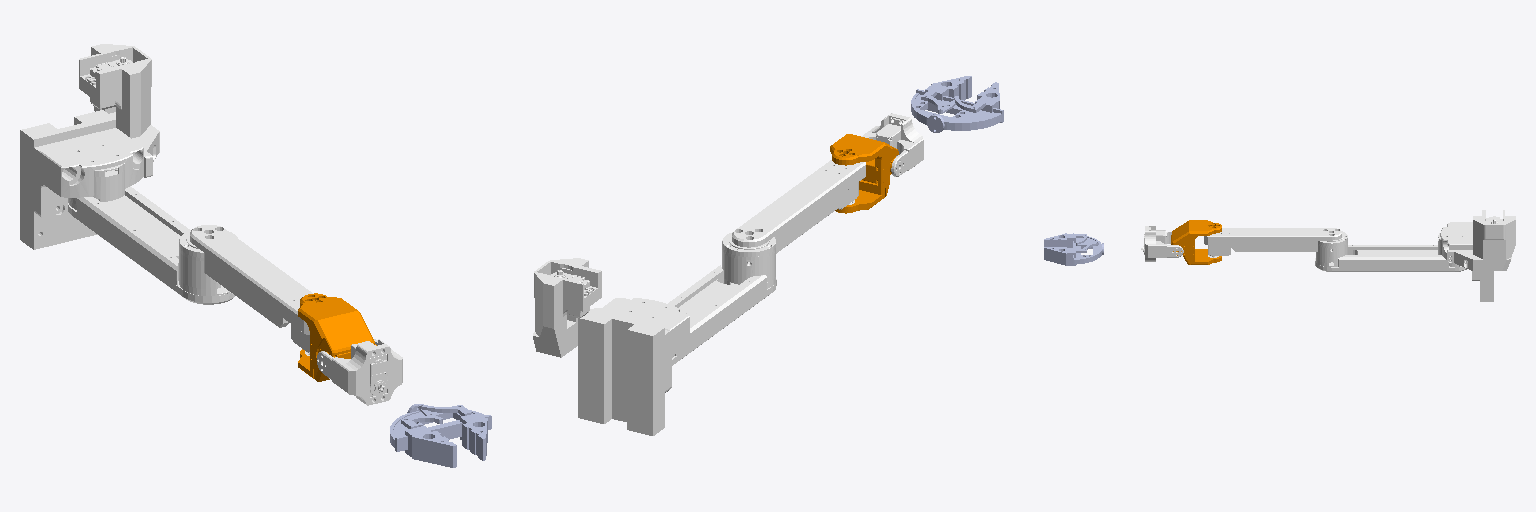
The robot description file, URDF, robot "TinyStretch":
<?xml version="1.0" encoding="utf-8"?>
<!-- This URDF was automatically created by SolidWorks to URDF Exporter! Originally created by [author] ([email redacted]) 
     Commit Version: 1.6.0-1-g15f4949  Build Version: 1.6.7594.29634
     For more information, please see http://wiki.ros.org/sw_urdf_exporter -->
<robot
  name="TinyStretch">


  <link
    name="base_link">
    <inertial>
      <origin
        xyz="0 0 0"
        rpy="0 0 0" />
      <mass
        value="5" />
      <inertia
        ixx="0.0069972"
        ixy="-4.771E-07"
        ixz="1.3652E-06"
        iyy="0.0098927"
        iyz="1.1128E-05"
        izz="0.0037007" />
    </inertial>
  </link>
   
  <link
    name="arm_base_link">
    <inertial>
      <origin
        xyz="0.0230339333077933 0.0468527238148121 -0.016101610527142"
        rpy="0 0 0" />
      <mass
        value="0.563791232660152" />
      <inertia
        ixx="0.000550162074526023"
        ixy="-9.13800924073317E-06"
        ixz="5.82510742155865E-06"
        iyy="0.000705595152739619"
        iyz="-1.29638845646991E-05"
        izz="0.000476715767910123" />
    </inertial>
    <visual>
      <origin
        xyz="0 0 0"
        rpy="0 0 0" />
      <geometry>
        <mesh
          filename="package://TinyStretch/meshes/arm_base_link.STL" />
      </geometry>
      <material
        name="">
        <color
          rgba="1 1 1 1" />
      </material>
    </visual>
    <collision>
      <origin
        xyz="0 0 0"
        rpy="0 0 0" />
      <geometry>
        <mesh
          filename="package://TinyStretch/meshes/arm_base_link.STL" />
      </geometry>
    </collision>
  </link>
  <joint
    name="arm_base_joint"
    type="prismatic">
    <origin
      xyz="0 0 0.12"
      rpy="0 0 0" />
    <parent
      link="base_link" />
    <child
      link="arm_base_link" />
    <axis
      xyz="0 0 1" />
    <limit
      lower="0"
      upper="0.23"
      effort="5"
      velocity="0.3" />
  </joint>

  <link
    name="arm0_link">
    <inertial>
      <origin
        xyz="-0.00347118599498991 -3.15184501778476E-05 0.114054429270132"
        rpy="0 0 0" />
      <mass
        value="0.304945958365602" />
      <inertia
        ixx="0.00111803954047033"
        ixy="-4.31180088576853E-09"
        ixz="-3.17581305751002E-06"
        iyy="0.00104538133328087"
        iyz="5.36307385602601E-10"
        izz="0.000105222620502007" />
    </inertial>
    <visual>
      <origin
        xyz="0 0 0"
        rpy="0 0 0" />
      <geometry>
        <mesh
          filename="package://TinyStretch/meshes/arm0_link.STL" />
      </geometry>
      <material
        name="">
        <color
          rgba="1 1 1 1" />
      </material>
    </visual>
    <collision>
      <origin
        xyz="0 0 0"
        rpy="0 0 0" />
      <geometry>
        <mesh
          filename="package://TinyStretch/meshes/arm0_link.STL" />
      </geometry>
    </collision>
  </link>
  <joint
    name="arm0_joint"
    type="revolute">
    <origin
      xyz="0 0 -0.0459"
      rpy="1.5708 1.5708 0" />
    <parent
      link="arm_base_link" />
    <child
      link="arm0_link" />
    <axis
      xyz="-1 0 0" />
    <limit
      lower="-1.57"
      upper="1.57"
      effort="10"
      velocity="3" />
  </joint>
  <link
    name="arm1_link">
    <inertial>
      <origin
        xyz="7.78997245312607E-06 -0.00543045767371764 0.108611482367265"
        rpy="0 0 0" />
      <mass
        value="0.179423889925194" />
      <inertia
        ixx="0.00049340842467727"
        ixy="-4.96395858021224E-09"
        ixz="-8.2901945949375E-08"
        iyy="0.000503793524710836"
        iyz="1.27227915596747E-07"
        izz="3.35188448836816E-05" />
    </inertial>
    <visual>
      <origin
        xyz="0 0 0"
        rpy="0 0 0" />
      <geometry>
        <mesh
          filename="package://TinyStretch/meshes/arm1_link.STL" />
      </geometry>
      <material
        name="">
        <color
          rgba="1 1 1 1" />
      </material>
    </visual>
    <collision>
      <origin
        xyz="0 0 0"
        rpy="0 0 0" />
      <geometry>
        <mesh
          filename="package://TinyStretch/meshes/arm1_link.STL" />
      </geometry>
    </collision>
  </link>
  <joint
    name="arm1_joint"
    type="revolute">
    <origin
      xyz="-0.046 0 0.21"
      rpy="0 0 1.5708" />
    <parent
      link="arm0_link" />
    <child
      link="arm1_link" />
    <axis
      xyz="0 1 0" />
    <limit
      lower="0"
      upper="2.96"
      effort="10"
      velocity="3" />
  </joint>
  <link
    name="arm2_link">
    <inertial>
      <origin
        xyz="-0.020120222192106 0.0308892330453639 -0.000142965764577313"
        rpy="0 0 0" />
      <mass
        value="0.0980521368758784" />
      <inertia
        ixx="4.22455880538882E-05"
        ixy="3.45087866268331E-06"
        ixz="2.98719439586652E-07"
        iyy="2.25571672882411E-05"
        iyz="-2.49758128419671E-07"
        izz="3.19823075478051E-05" />
    </inertial>
    <visual>
      <origin
        xyz="0 0 0"
        rpy="0 0 0" />
      <geometry>
        <mesh
          filename="package://TinyStretch/meshes/arm2_link.STL" />
      </geometry>
      <material
        name="">
        <color
          rgba="1 0.6 0 1" />
      </material>
    </visual>
    <collision>
      <origin
        xyz="0 0 0"
        rpy="0 0 0" />
      <geometry>
        <mesh
          filename="package://TinyStretch/meshes/arm2_link.STL" />
      </geometry>
    </collision>
  </link>
  <joint
    name="arm2_joint"
    type="revolute">
    <origin
      xyz="2.9282E-05 0.0088 0.20095"
      rpy="1.5708 0 1.5708" />
    <parent
      link="arm1_link" />
    <child
      link="arm2_link" />
    <axis
      xyz="-1 0 0" />
    <limit
      lower="-1.9"
      upper="1.9"
      effort="10"
      velocity="3" />
  </joint>
  <link
    name="arm3_link">
    <inertial>
      <origin
        xyz="0.0378614341217498 -0.000880743243431903 -0.0260096517576764"
        rpy="0 0 0" />
      <mass
        value="0.0701150632473082" />
      <inertia
        ixx="2.85886031669487E-05"
        ixy="1.13914110634963E-07"
        ixz="1.37861343880548E-08"
        iyy="2.83433374672963E-05"
        iyz="-4.08961931990006E-09"
        izz="1.84022487213624E-05" />
    </inertial>
    <visual>
      <origin
        xyz="0 0 0"
        rpy="0 0 0" />
      <geometry>
        <mesh
          filename="package://TinyStretch/meshes/arm3_link.STL" />
      </geometry>
      <material
        name="">
        <color
          rgba="1 1 1 1" />
      </material>
    </visual>
    <collision>
      <origin
        xyz="0 0 0"
        rpy="0 0 0" />
      <geometry>
        <mesh
          filename="package://TinyStretch/meshes/arm3_link.STL" />
      </geometry>
    </collision>
  </link>
  <joint
    name="arm3_joint"
    type="revolute">
    <origin
      xyz="-0.02455 0.062411 0.027072"
      rpy="0 0 1.5708" />
    <parent
      link="arm2_link" />
    <child
      link="arm3_link" />
    <axis
      xyz="0 0 -1" />
    <limit
      lower="-1.57"
      upper="1.57"
      effort="10"
      velocity="3" />
  </joint>
  <link
    name="arm4_link">
    <inertial>
      <origin
        xyz="0.0575769201806073 -0.000955133770654537 4.26827065894142E-05"
        rpy="0 0 0" />
      <mass
        value="0.0627105561340356" />
      <inertia
        ixx="4.69838111630794E-05"
        ixy="-1.40377278488317E-06"
        ixz="6.39473133862229E-07"
        iyy="3.87616730398487E-05"
        iyz="-3.2262145486781E-08"
        izz="8.16323737141362E-05" />
    </inertial>
    <visual>
      <origin
        xyz="0 0 0"
        rpy="0 0 0" />
      <geometry>
        <mesh
          filename="package://TinyStretch/meshes/arm4_link.STL" />
      </geometry>
      <material
        name="">
        <color
          rgba="0.792156862745098 0.819607843137255 0.933333333333333 1" />
      </material>
    </visual>
    <collision>
      <origin
        xyz="0 0 0"
        rpy="0 0 0" />
      <geometry>
        <mesh
          filename="package://TinyStretch/meshes/arm4_link.STL" />
      </geometry>
    </collision>
  </link>
  <joint
    name="arm4_joint"
    type="revolute">
    <origin
      xyz="0.12 0.0086359 -0.025821"
      rpy="1.5708 0 0" />
    <parent
      link="arm3_link" />
    <child
      link="arm4_link" />
    <axis
      xyz="-1 0 0" />
    <limit
      lower="-1.57"
      upper="1.57"
      effort="10"
      velocity="3" />
  </joint>
  
 
</robot>

--- What the picture shows (computed from the rendered views, not written in the file) ---
The picture shows the robot from 3 angles, left to right: view 1: azimuth 30°, elevation 25°; view 2: azimuth 150°, elevation 25°; view 3: azimuth 270°, elevation 25°; orthographic projection.
Model TinyStretch with 7 links and 6 joints (5 revolute, 1 prismatic), rooted at base_link, posed all joints at 0.
Links seen in each view (by area): view 1: arm_base_link, arm0_link, arm1_link, arm4_link, arm2_link, arm3_link; view 2: arm_base_link, arm0_link, arm1_link, arm4_link, arm2_link, arm3_link; view 3: arm_base_link, arm0_link, arm1_link, arm4_link, arm2_link, arm3_link.
Link boxes in pixels (<box>): arm_base_link: <box>20,44,159,249</box>; arm0_link: <box>68,186,237,304</box>; arm1_link: <box>190,225,312,355</box>; arm4_link: <box>390,404,491,467</box>; arm2_link: <box>298,293,376,381</box>; arm3_link: <box>317,339,402,405</box>; arm_base_link: <box>533,258,689,435</box>; arm0_link: <box>668,232,776,365</box>; arm1_link: <box>732,160,865,253</box>; arm4_link: <box>911,76,1003,132</box>; arm2_link: <box>830,134,898,213</box>; arm3_link: <box>861,113,923,176</box>; arm_base_link: <box>1438,210,1515,301</box>; arm0_link: <box>1315,231,1466,271</box>; arm1_link: <box>1204,228,1341,257</box>; arm4_link: <box>1044,233,1103,265</box>; arm2_link: <box>1171,220,1221,264</box>; arm3_link: <box>1141,226,1183,261</box>.
Size in the robot's own frame: 0.1392 by 0.8037 by 0.1643 metres.
6 mesh visuals loaded from 6 distinct referenced files (6 binary STL).